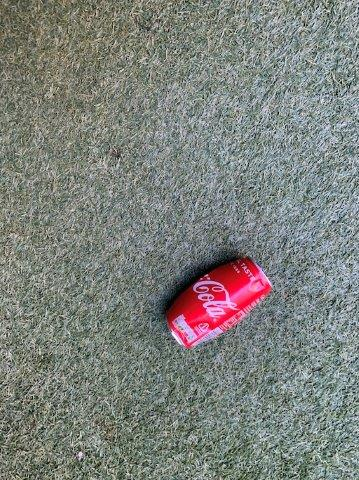kaleng: (167, 259, 273, 347)
